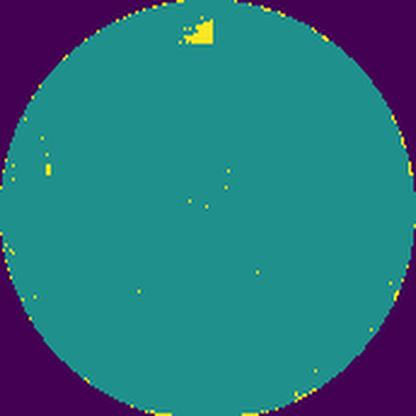Loc: (179, 14, 215, 46)
